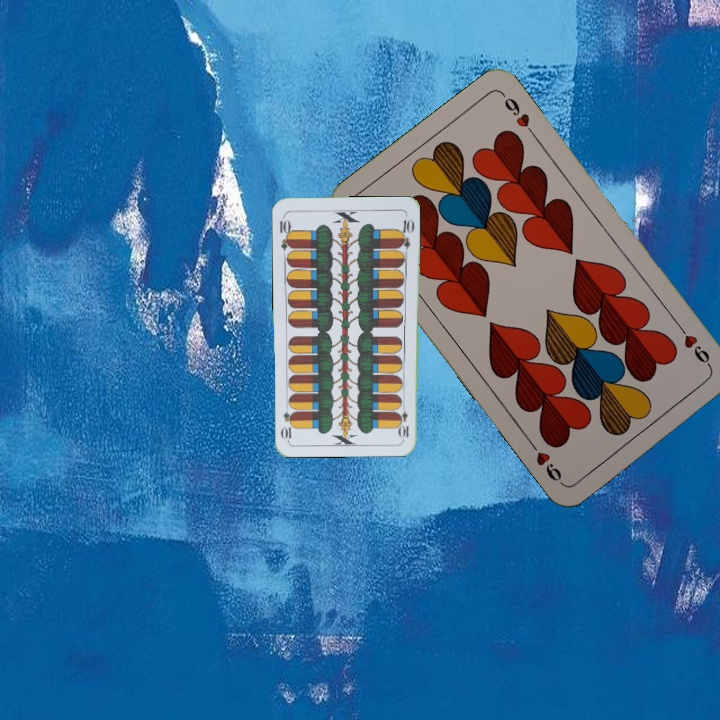E10: (276, 212, 295, 252), (397, 400, 411, 440)
H9: (674, 320, 715, 372)
